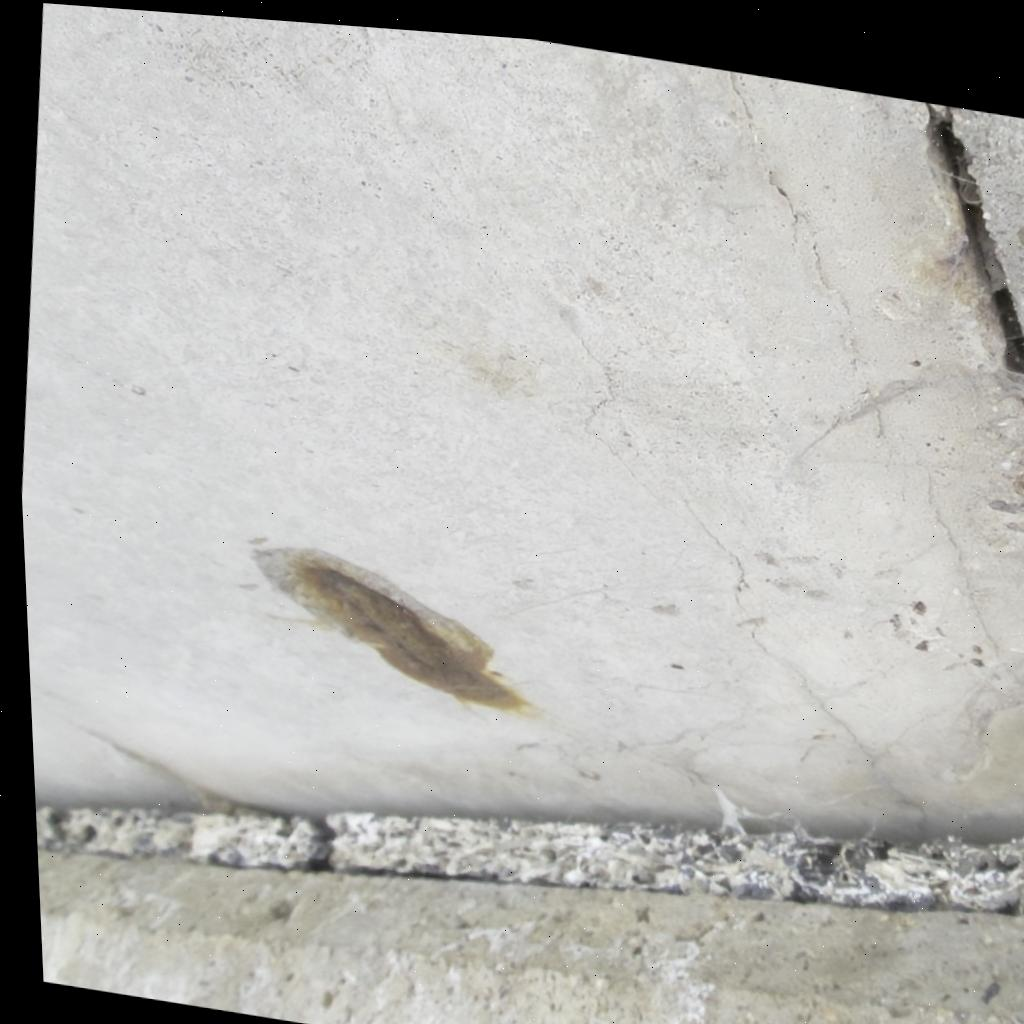spalling: (253, 547, 528, 710)
